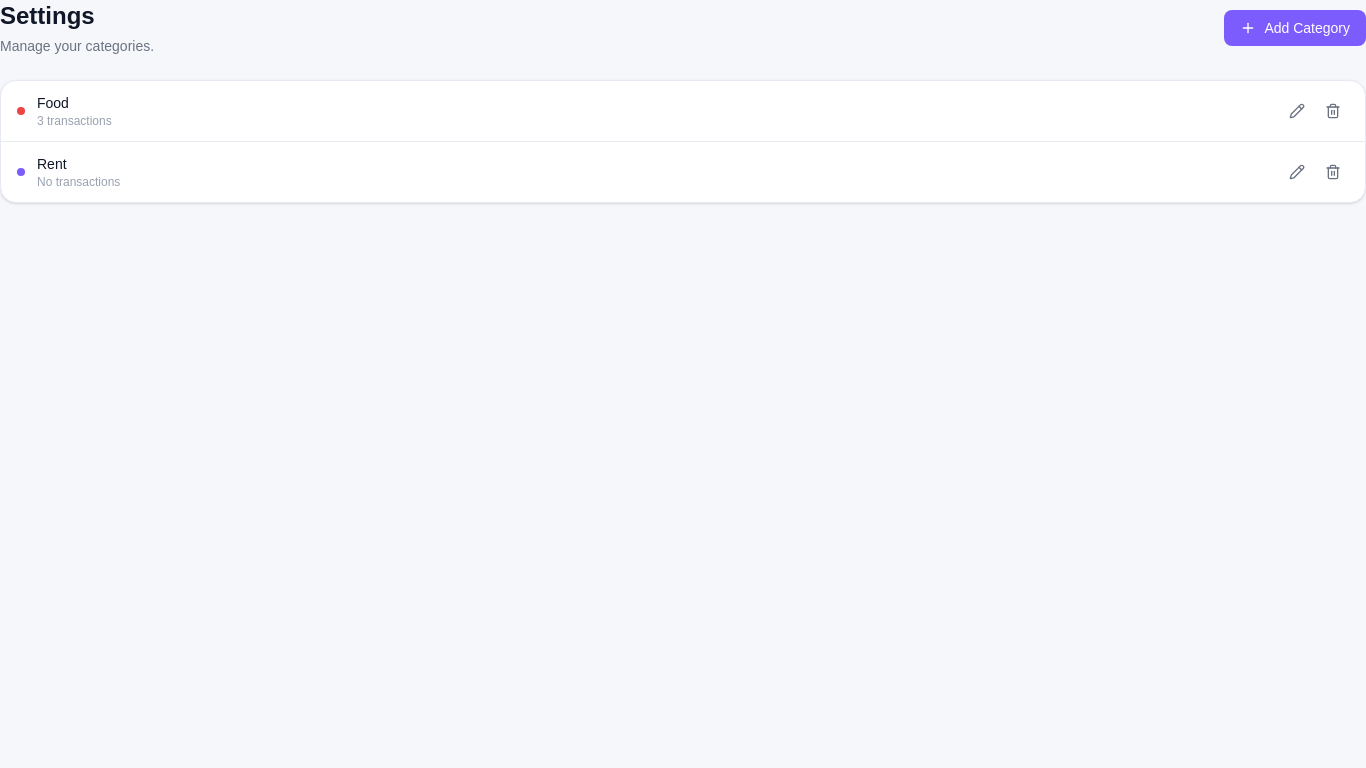
CategoryManager › opens the delete dialog from a row action
Click the button named "Delete category cat_food": (1333,111) 1317,95 -> 1349,127
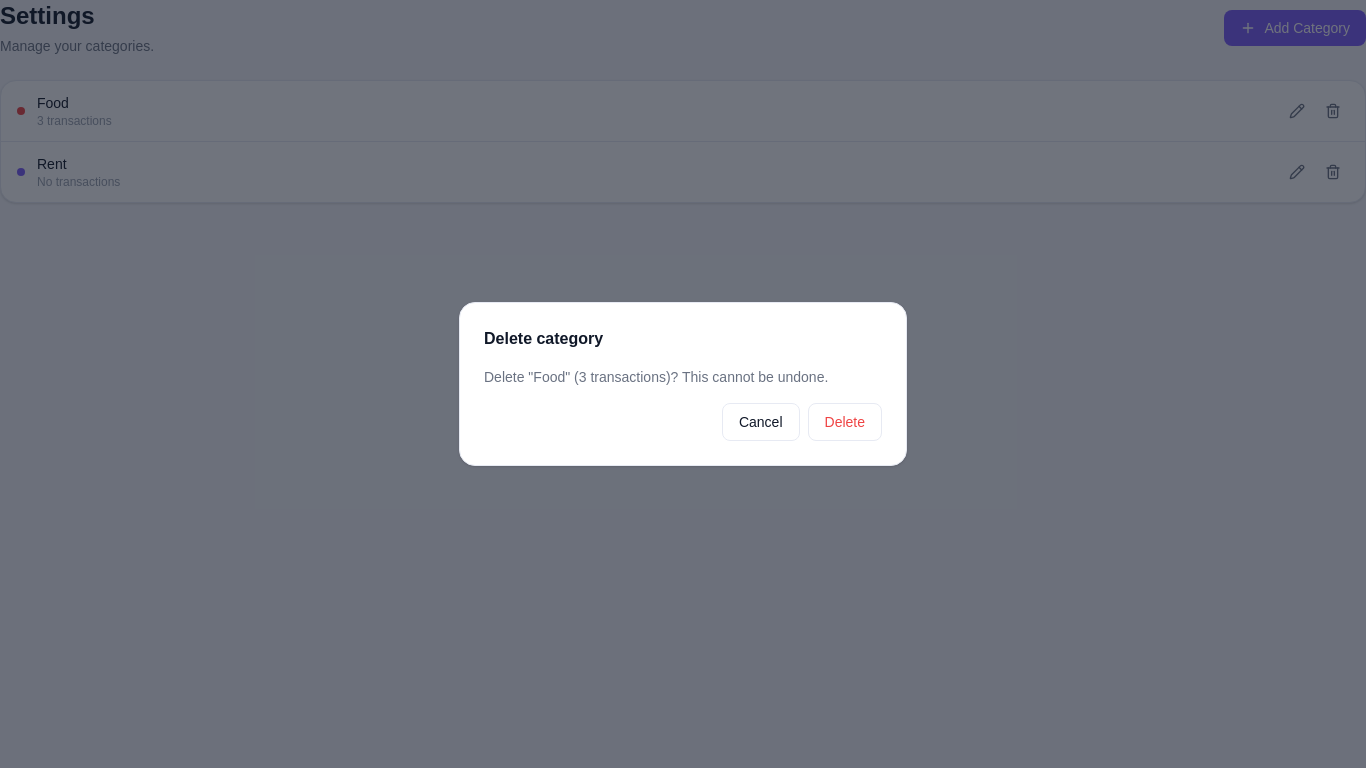
Result: the dialog "Delete category" is shown at 459,302 -> 907,466
